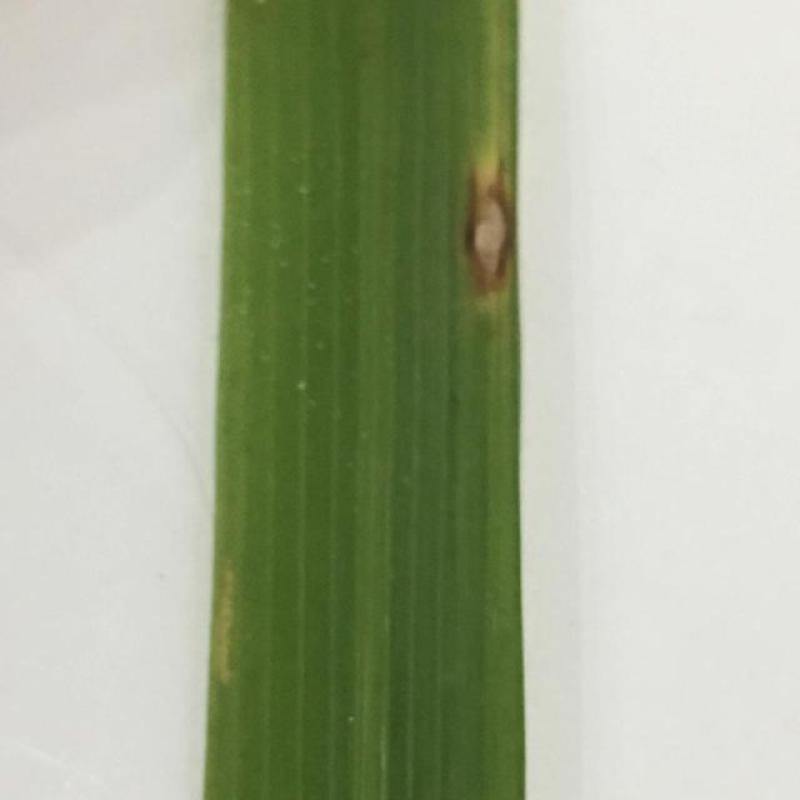Leaf_Blast: (445, 91, 545, 341)
